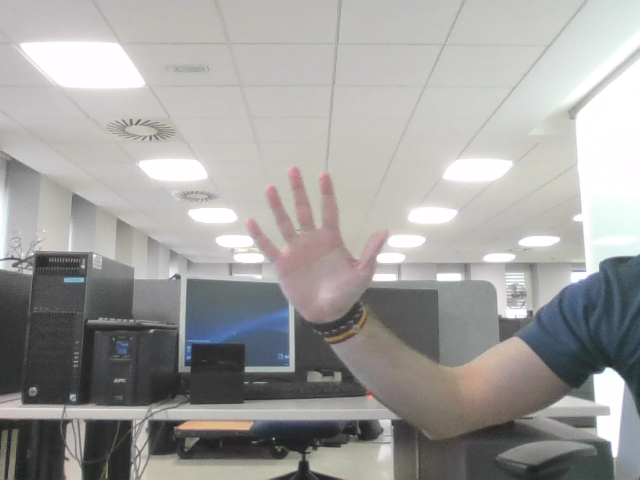Mano Abierta: (256, 178, 375, 290)
